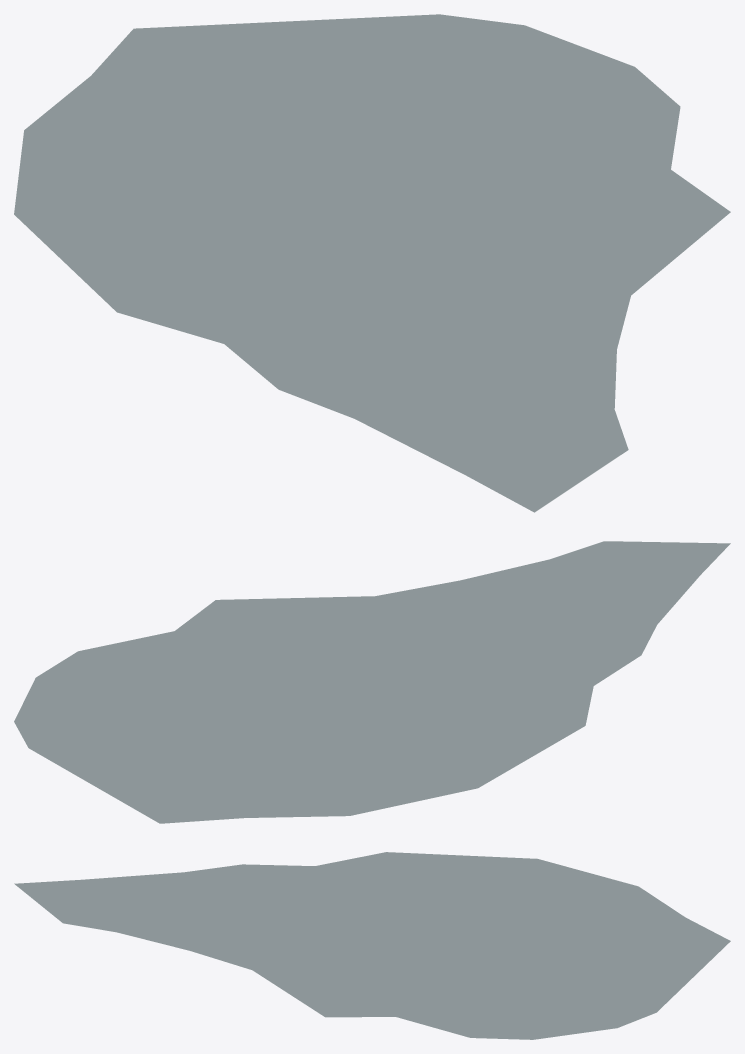
Rendered from floor-01-area-04.fbx.
The picture shows the model from 3 angles, top to bottom: view 1: azimuth 30°, elevation 25°; view 2: azimuth 150°, elevation 25°; view 3: azimuth 270°, elevation 25°; orthographic projection. The views are drawn at different scales.
Visible parts, largest first — view 1: Area4-Water; view 2: Area4-Water; view 3: Area4-Water.
Part boxes in pixels (x1=…): Area4-Water: x1=14, y1=14, x2=730, y2=512; Area4-Water: x1=14, y1=541, x2=730, y2=823; Area4-Water: x1=14, y1=852, x2=730, y2=1039.
Bounding box in the file's own units: 1116 × 1.49e-06 × 1800.
